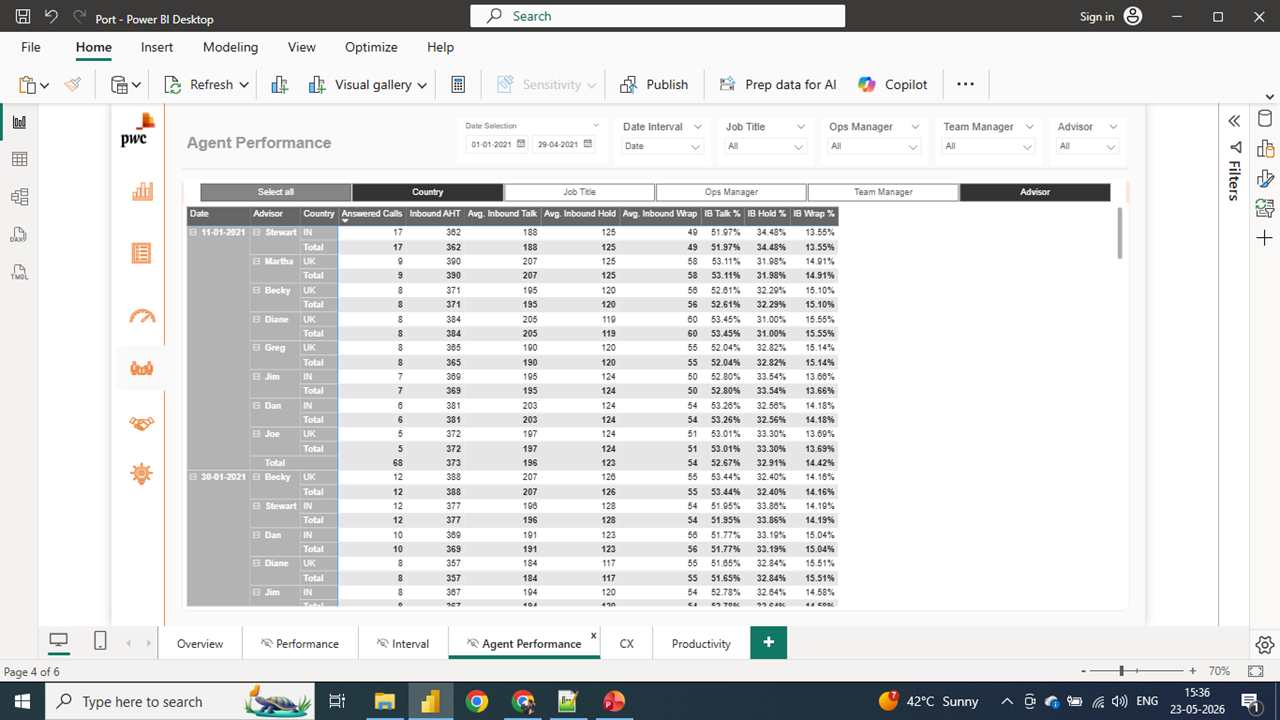

The page's visual inventory and layout, read from the dashboard file:
{"tool":"powerbi","page":{"name":"Agent Performance","canvas":[1580,800],"ordinal":3},"visuals":[{"type":"slicer","fields":{"Values":["_P_Agent._P_Agent"]},"box":[109.9,115.8,1442.2,38.1],"z":0},{"type":"pivotTable","fields":{"Rows":["Date Calendar.Date","Emp.Employee Name","Emp.County"],"Values":["Measures (2).Answered Calls","Measures (2).Inbound AHT","Measures (2).Avg. Inbound Talk","Measures (2).Avg. Inbound Hold","Measures (2).Avg. Inbound Wrap","Measures (2).IB Talk %","Measures (2).IB Hold %","Measures (2).IB Wrap %"]},"box":[109.9,153.9,1442.2,621.4],"z":1},{"type":"slicer","fields":{"Values":["_P_Date_Interval._P_Date_Interval"]},"box":[770.1,23.5,146.6,71.8],"z":2},{"type":"slicer","title":"Date Selection","fields":{"Values":["Date Calendar.Date"]},"box":[529.1,23.5,230.1,70.4],"z":3},{"type":"textbox","box":[110.2,40.9,300,45.7],"z":4},{"type":"slicer","fields":{"Values":["Emp.Job Title"]},"box":[927.5,23.5,146.6,71.8],"z":5},{"type":"slicer","fields":{"Values":["Emp.Employee Name"]},"box":[1434.9,23.5,117.3,71.8],"z":6},{"type":"slicer","fields":{"Values":["Emp.Employee Name"]},"box":[1259.9,23.5,164.2,71.8],"z":7},{"type":"slicer","fields":{"Values":["Emp.Employee Name"]},"box":[1084.9,23.5,164.2,71.8],"z":8},{"type":"image","box":[1.3,11.3,78.3,58.7],"z":9},{"type":"pageNavigator","box":[0,95.3,85,520.3],"z":10}]}

Visuals, with their boxes on the page's 1580x800 design canvas (x1, y1, x2, y2). These are canvas units, not pixel positions in the 1280x720 screenshot, which may show the page scaled, cropped or inside an application window:
slicer - _P_Agent._P_Agent: (left=110, top=116, right=1552, bottom=154)
pivotTable - Date Calendar.Date x Emp.Employee Name: (left=110, top=154, right=1552, bottom=775)
slicer - _P_Date_Interval._P_Date_Interval: (left=770, top=24, right=917, bottom=95)
"Date Selection" slicer: (left=529, top=24, right=759, bottom=94)
textbox: (left=110, top=41, right=410, bottom=87)
slicer - Emp.Job Title: (left=928, top=24, right=1074, bottom=95)
slicer - Emp.Employee Name: (left=1435, top=24, right=1552, bottom=95)
slicer - Emp.Employee Name: (left=1260, top=24, right=1424, bottom=95)
slicer - Emp.Employee Name: (left=1085, top=24, right=1249, bottom=95)
image: (left=1, top=11, right=80, bottom=70)
pageNavigator: (left=0, top=95, right=85, bottom=616)
